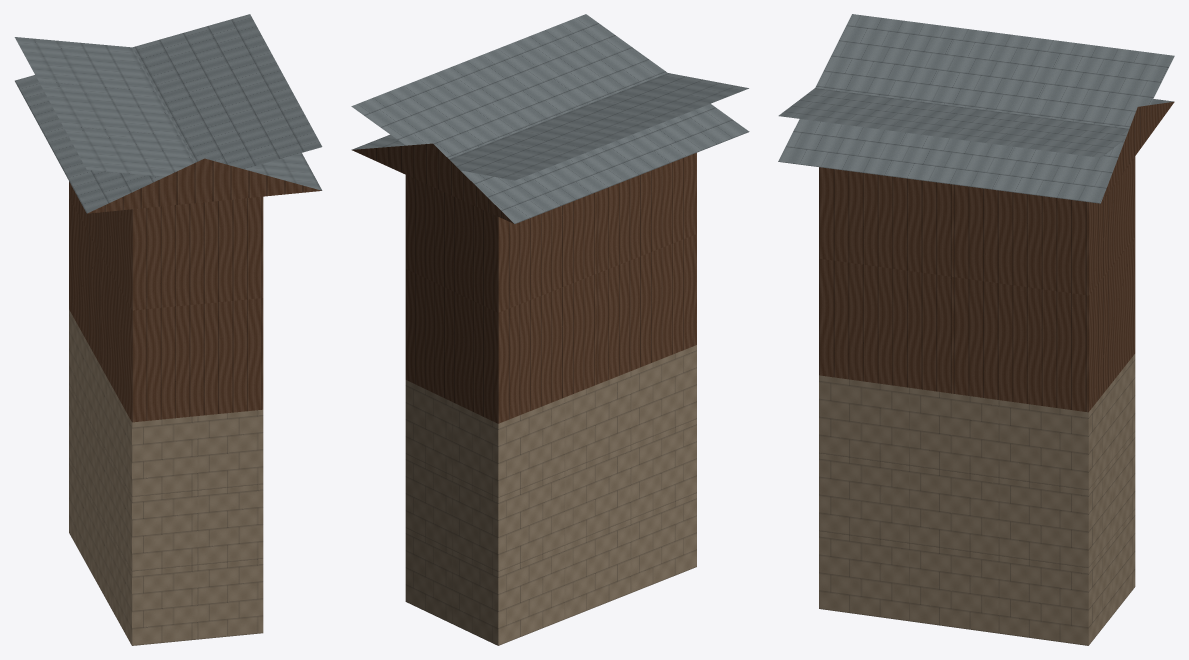
File: bld_c10_26_399.gltf
3 renders of one model, left to right at view 1: azimuth 30°, elevation 25°; view 2: azimuth 150°, elevation 25°; view 3: azimuth 270°, elevation 25°, orthographic. The views are drawn at different scales.
Visible parts, largest first — view 1: bld_c10_26_399; view 2: bld_c10_26_399; view 3: bld_c10_26_399.
Part boxes in pixels (left/top/right/bottom): bld_c10_26_399: left=14, top=14, right=322, bottom=645; bld_c10_26_399: left=351, top=14, right=749, bottom=645; bld_c10_26_399: left=778, top=14, right=1174, bottom=645.
Bounding box in the file's own units: 6.74 × 11.2 × 7.85.
4 materials, 4 textured.
